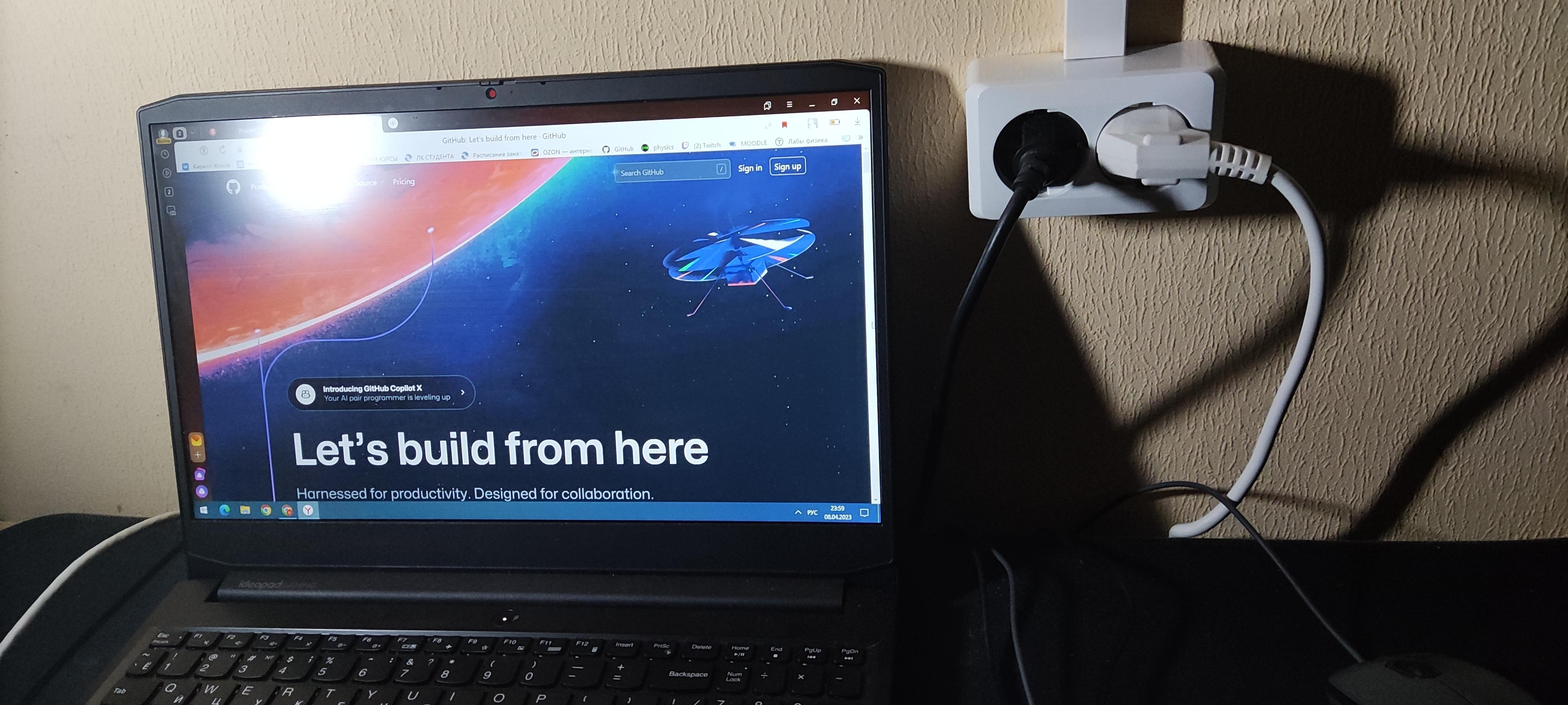monitor: (129, 55, 909, 574)
